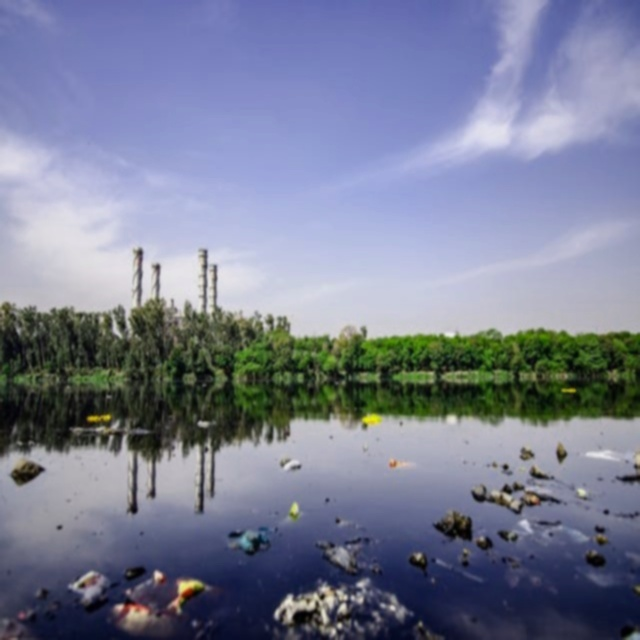algae_bloom: (0, 329, 640, 426)
contaminated_water: (13, 13, 627, 627)
foam_scum: (0, 132, 640, 339), (33, 417, 633, 493), (442, 56, 640, 156)
turbid_water: (0, 255, 640, 486)
